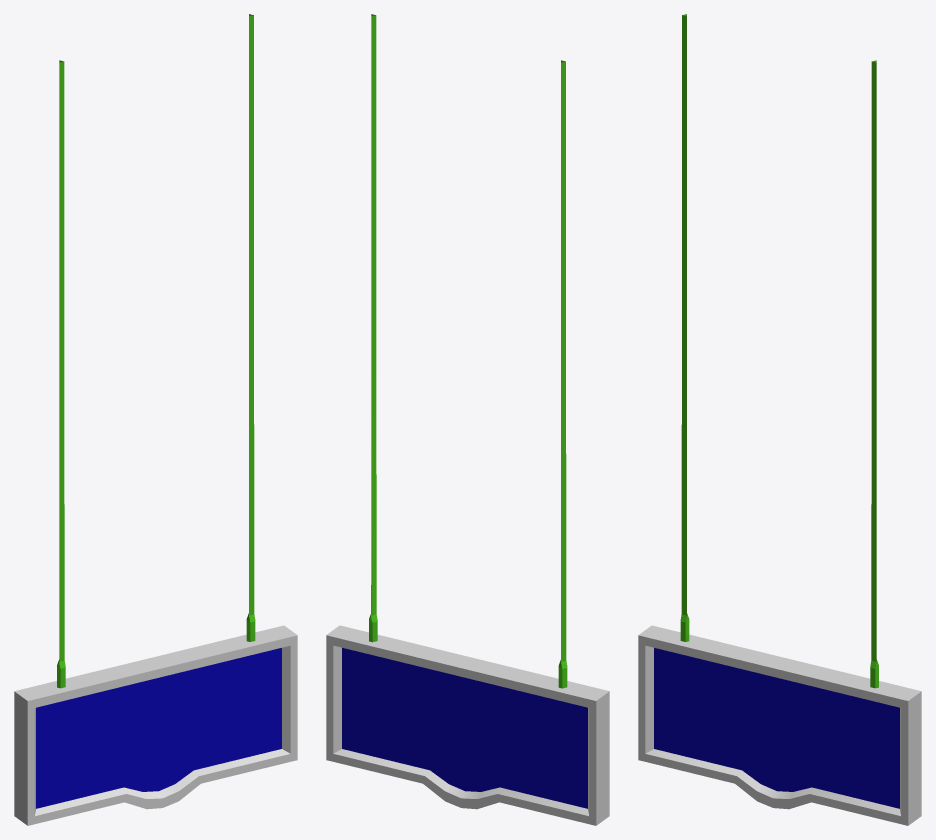
The model's file is sign.fbx.
The picture shows the model from 3 angles, left to right: view 1: azimuth 30°, elevation 25°; view 2: azimuth 150°, elevation 25°; view 3: azimuth 330°, elevation 25°; orthographic projection.
Visible parts, largest first — view 1: sign; view 2: sign; view 3: sign.
Boxes of the visible parts, <box> form: sign: <box>14,14,297,825</box>; sign: <box>326,14,609,825</box>; sign: <box>638,14,921,825</box>.
Size of the model in its own units: 26.47 by 71.65 by 2.3.
